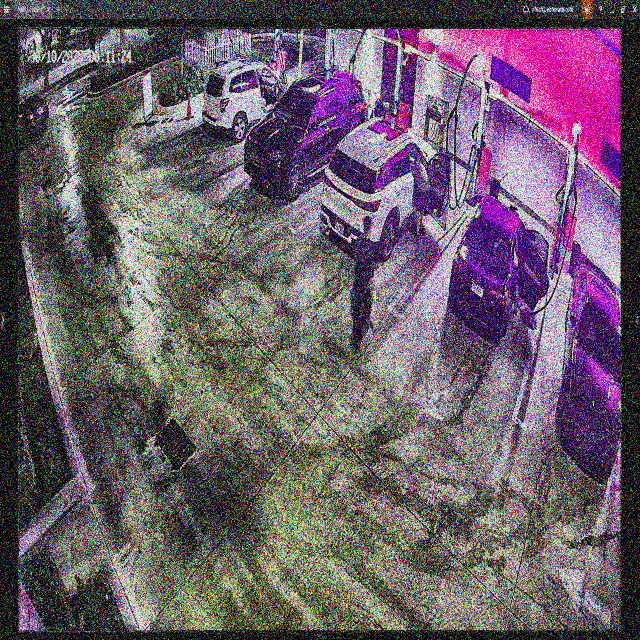Car: (321, 114, 447, 269), (240, 67, 368, 189), (446, 195, 550, 340)
